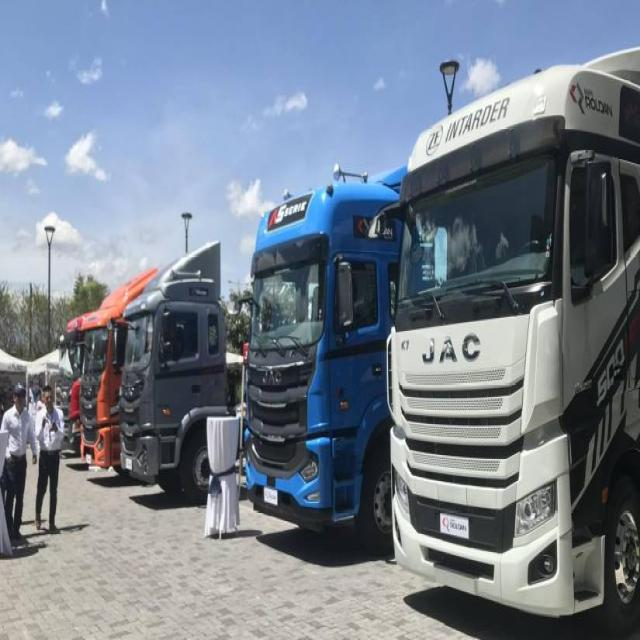TRUCK: (392, 55, 640, 626), (242, 183, 404, 544), (119, 273, 238, 504)
